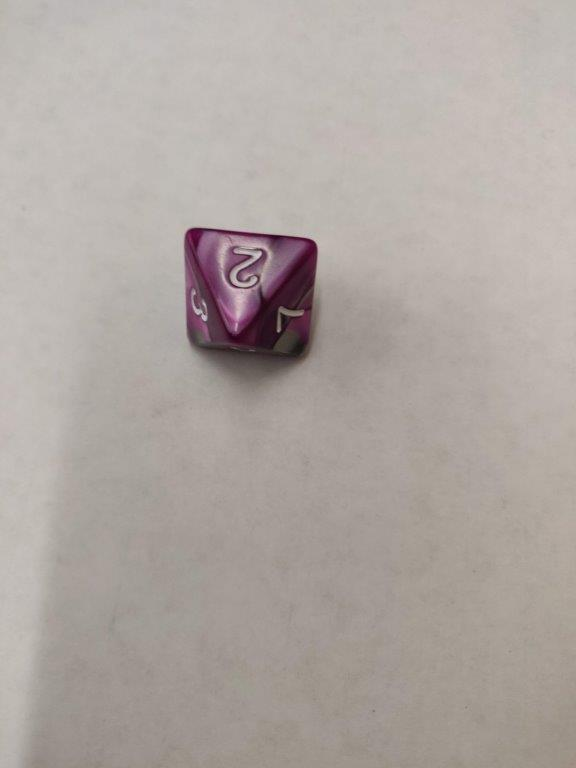d8-2: (184, 224, 317, 357)
